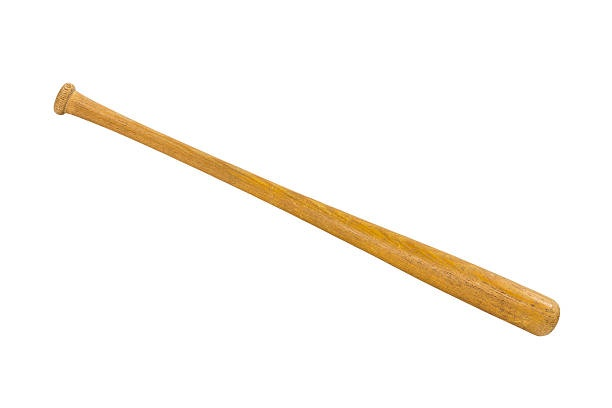bita: (54, 74, 566, 335)
